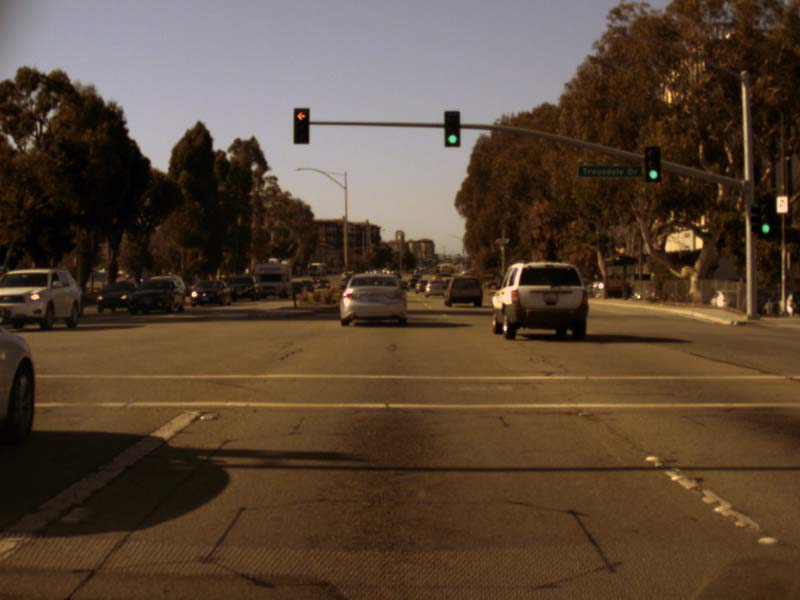Green: (758, 200, 775, 238), (443, 110, 459, 148), (645, 146, 660, 181)
Red: (293, 106, 309, 144)
